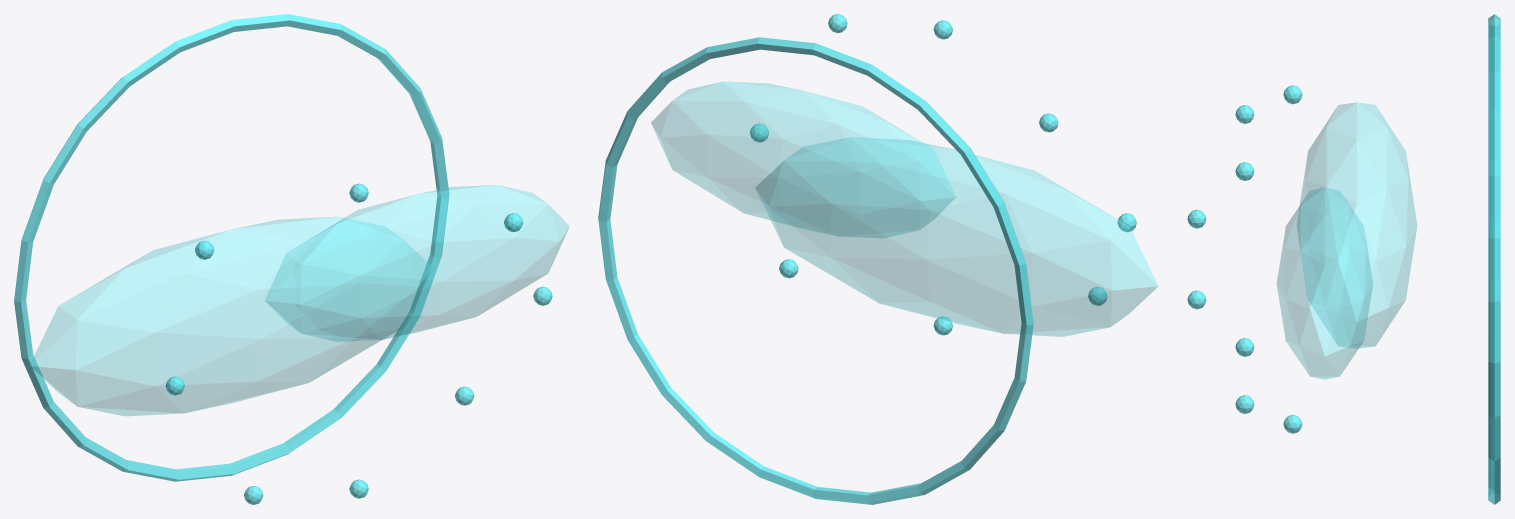
The model's file is 04_atmosphere.glb.
3 renders of one model, left to right at view 1: azimuth 30°, elevation 25°; view 2: azimuth 150°, elevation 25°; view 3: azimuth 270°, elevation 25°, orthographic. The views are drawn at different scales.
Parts seen in each view (by area): view 1: cloud_or_nebula_a, cloud_or_nebula_b, horizon_ring; view 2: cloud_or_nebula_a, cloud_or_nebula_b, horizon_ring; view 3: cloud_or_nebula_a, cloud_or_nebula_b, horizon_ring.
Boxes of the visible parts, x1=… form: cloud_or_nebula_a: x1=29, y1=217, x2=432, y2=415; cloud_or_nebula_b: x1=265, y1=185, x2=569, y2=341; horizon_ring: x1=14, y1=14, x2=449, y2=481; cloud_or_nebula_a: x1=755, y1=137, x2=1158, y2=336; cloud_or_nebula_b: x1=651, y1=81, x2=955, y2=237; horizon_ring: x1=598, y1=37, x2=1033, y2=504; cloud_or_nebula_a: x1=1297, y1=102, x2=1416, y2=348; cloud_or_nebula_b: x1=1277, y1=188, x2=1372, y2=379; horizon_ring: x1=1488, y1=14, x2=1500, y2=504.
Bounding box in the file's own units: 1.85 × 1.54 × 0.979.
